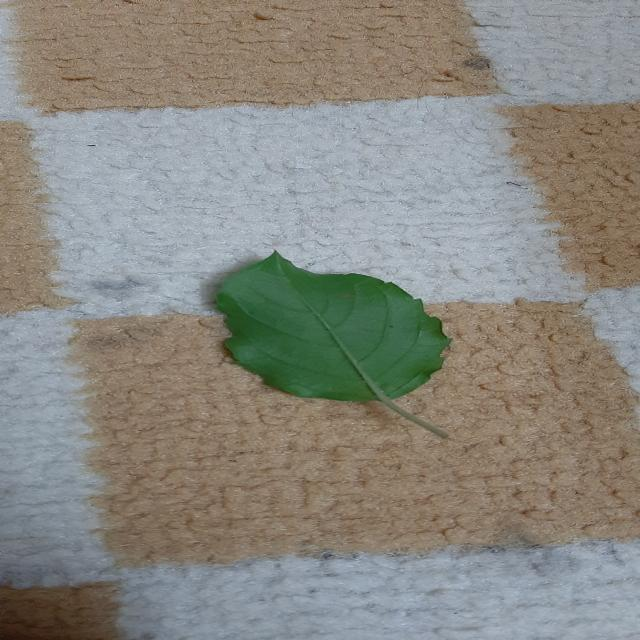tulsi: (217, 252, 450, 438)
